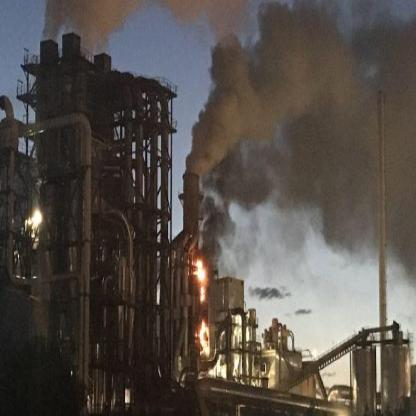fire: (192, 253, 207, 305), (195, 315, 212, 358)
